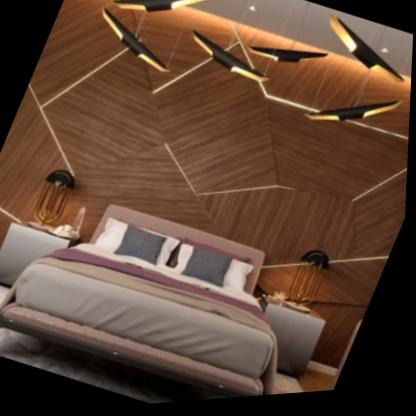Bed: (0, 170, 319, 416)
Wall Panel: (0, 0, 416, 353)
